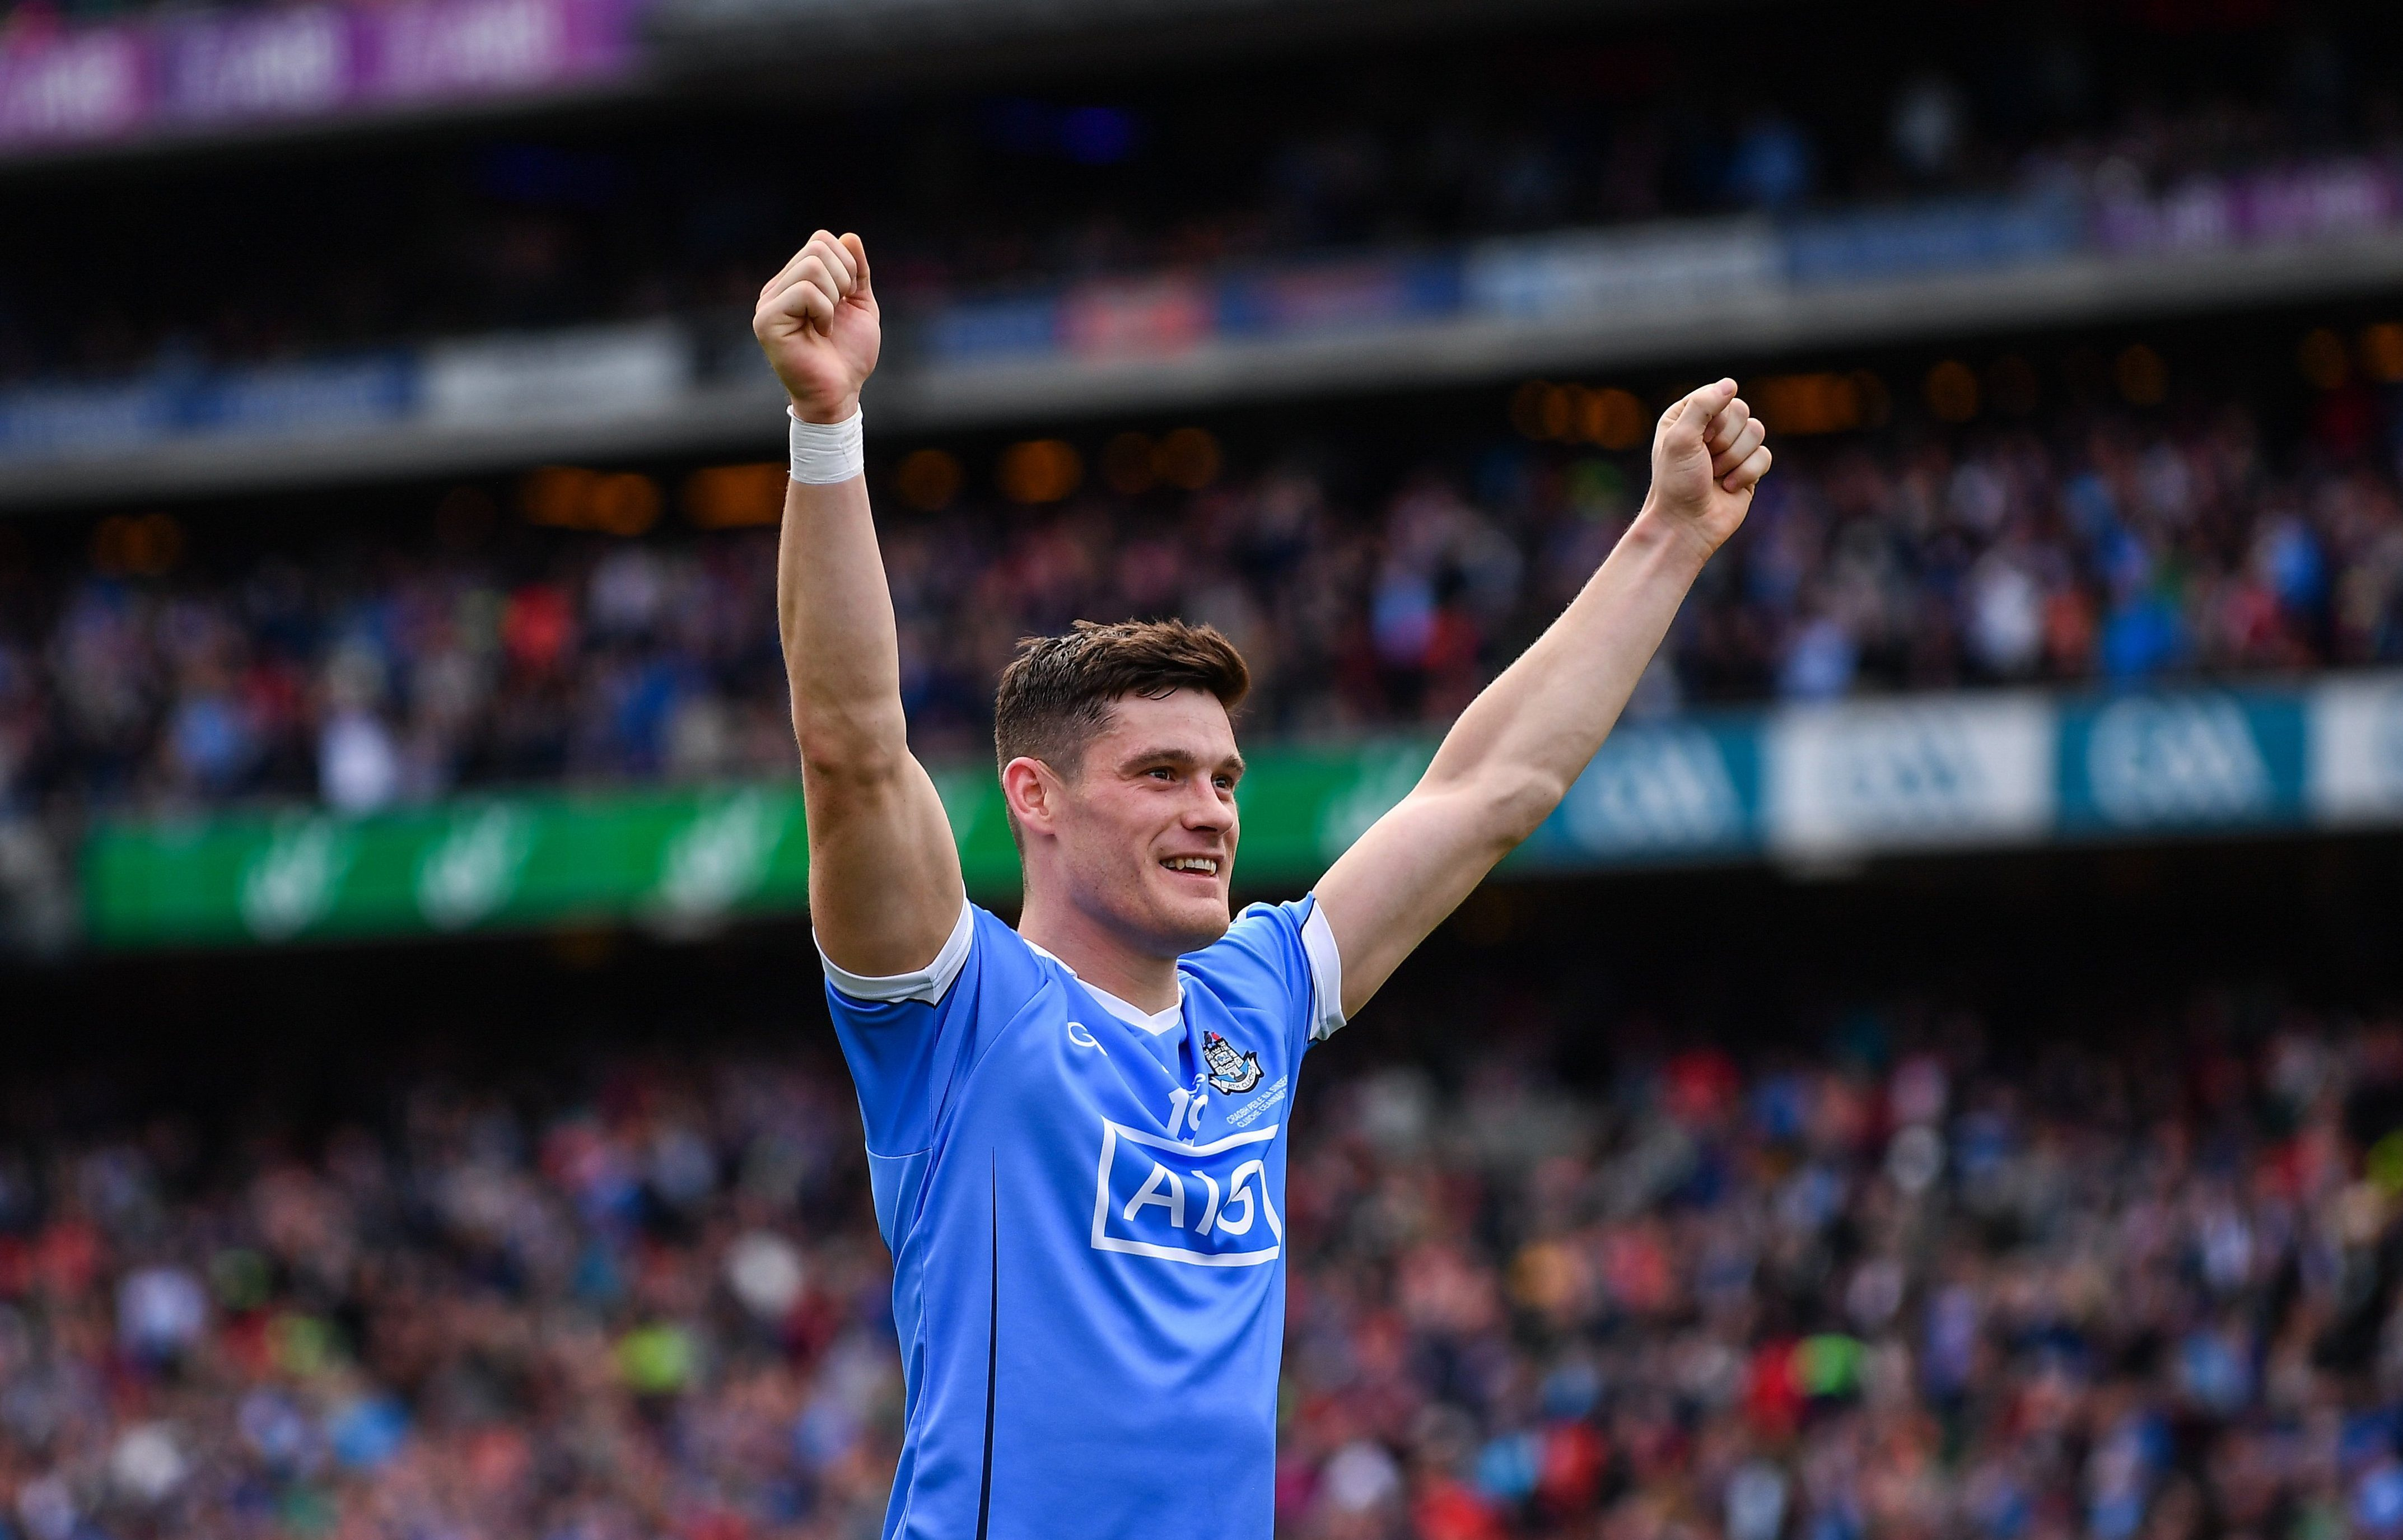player: (801, 502, 1402, 1531)
